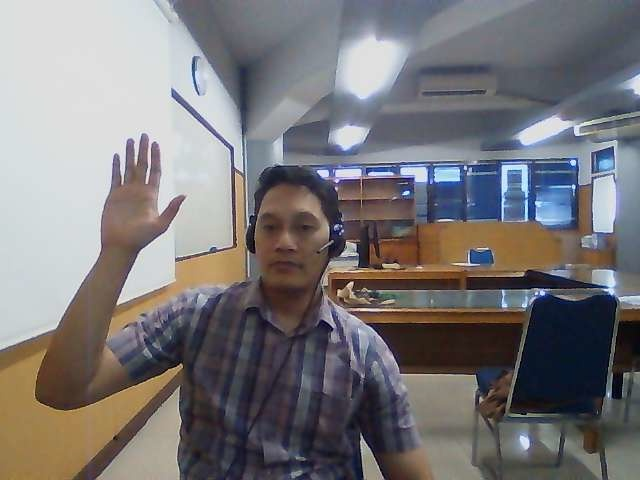Hai: (99, 133, 189, 250)
